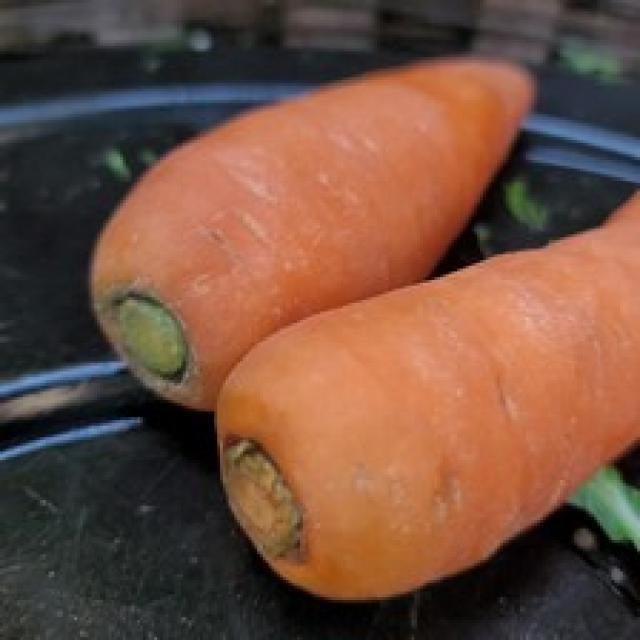carrot: (220, 188, 640, 605), (94, 61, 538, 407)
